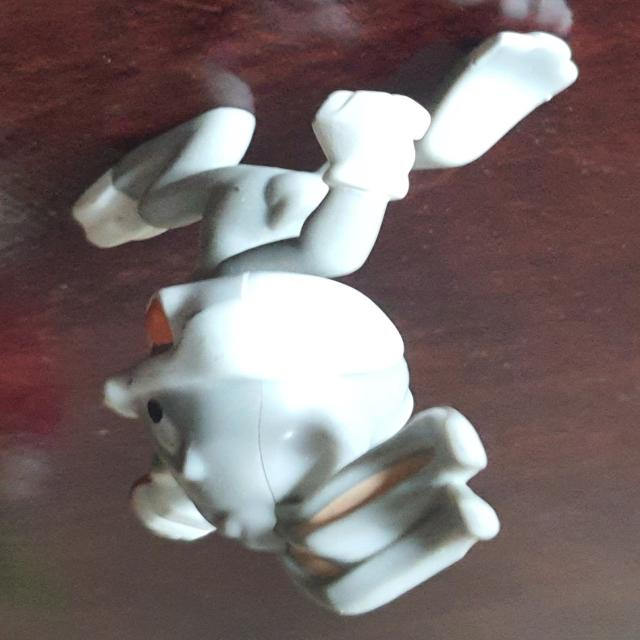Rabbit: (70, 29, 581, 618)
